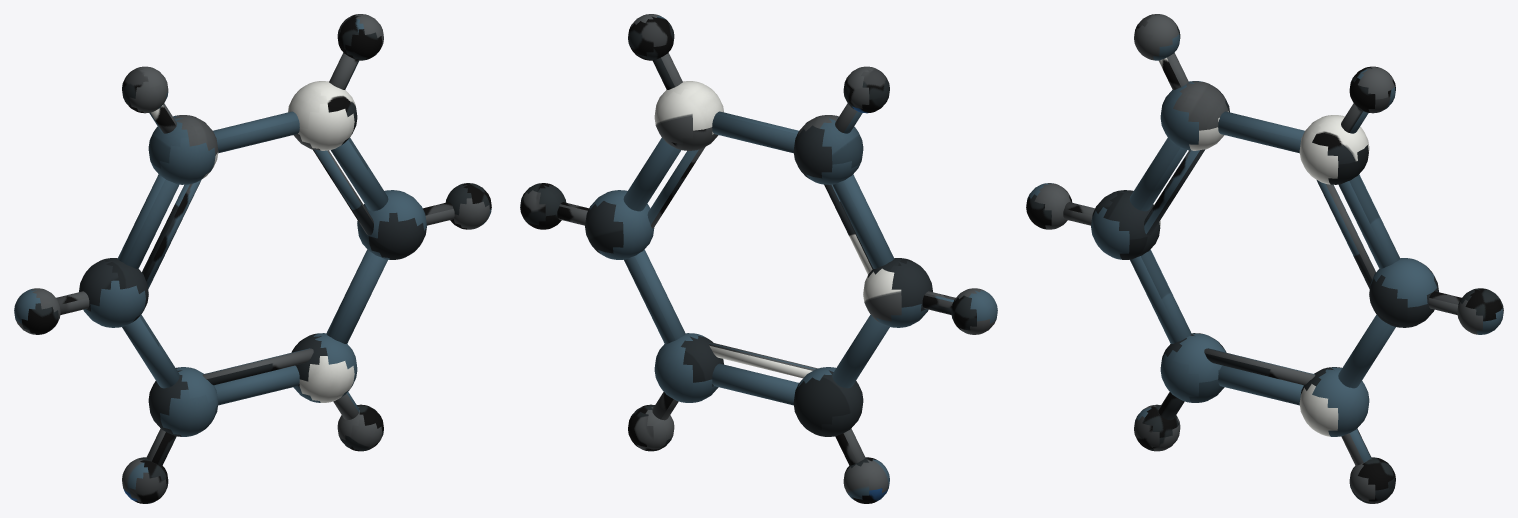
File: 3_molecule.obj
3 renders of one model, left to right at view 1: azimuth 30°, elevation 25°; view 2: azimuth 150°, elevation 25°; view 3: azimuth 330°, elevation 25°, orthographic.
Size of the model in its own units: 1.63 by 1.43 by 0.21.
1 material, 1 textured.
